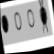correct: (1, 13, 10, 34)
not correct: (36, 0, 49, 36)
